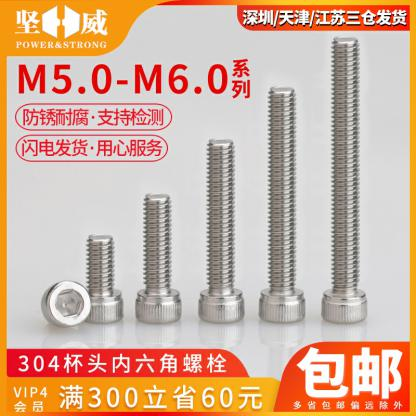FOD: (318, 34, 371, 326), (256, 83, 309, 325), (195, 135, 247, 325), (131, 191, 185, 324), (76, 234, 126, 323), (40, 278, 92, 329)
